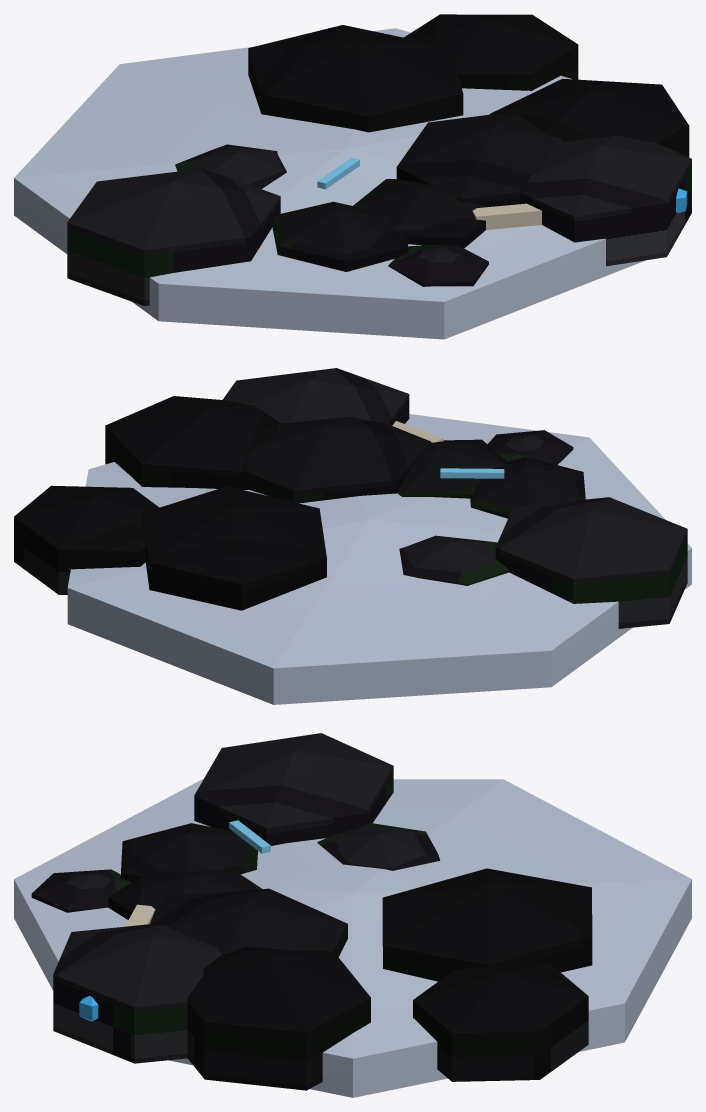
File: cairn_toppled.glb
3 views of the same model, one above another, from view 1: azimuth 30°, elevation 25°; view 2: azimuth 150°, elevation 25°; view 3: azimuth 270°, elevation 25° (orthographic). The views are drawn at different scales.
Parts seen in each view (by area): view 1: cairn_toppled; view 2: cairn_toppled; view 3: cairn_toppled.
Boxes of the visible parts, x1=… form: cairn_toppled: x1=14, y1=14, x2=691, y2=339; cairn_toppled: x1=14, y1=368, x2=691, y2=704; cairn_toppled: x1=14, y1=733, x2=691, y2=1097.
Size of the model in its own units: 2.06 by 0.4046 by 1.98.
Materials: 3 (1 with a texture image).
